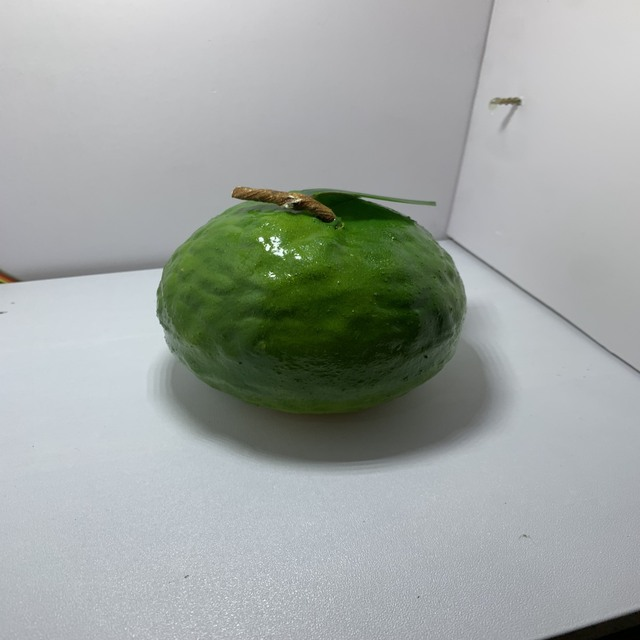Cam xanh: (154, 180, 466, 421)
